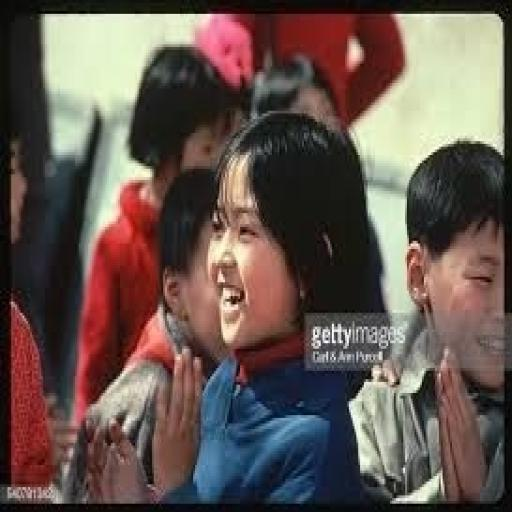clapping: (4, 77, 403, 512)
